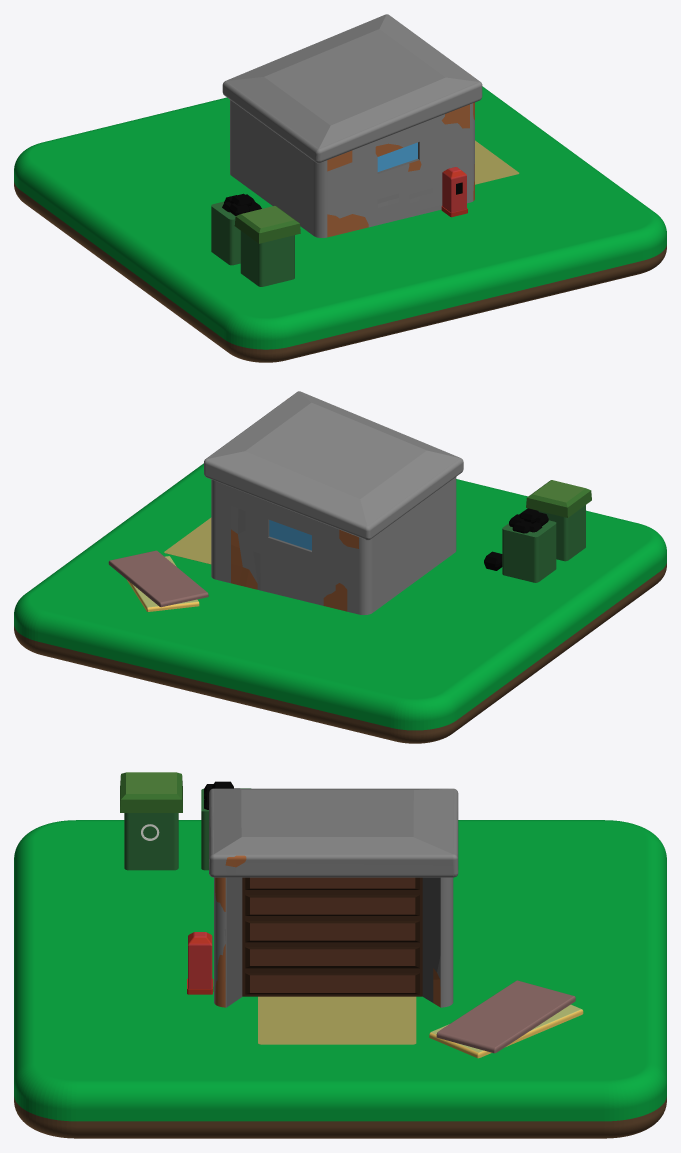
File: islandGarage.glb
3 renders of one model, top to bottom at view 1: azimuth 30°, elevation 25°; view 2: azimuth 150°, elevation 25°; view 3: azimuth 270°, elevation 25°, orthographic. The views are drawn at different scales.
Visible parts, largest first — view 1: Island.005, Plane.007, Plane.010, Plane.001; view 2: Island.005, Plane.007, Plane.010, Plane.008, Plane.001; view 3: Island.005, Plane.007, Plane.001, Plane.010, Plane.008.
Boxes of the visible parts, x1,y1,x2,y2 form: Island.005: [14, 86, 666, 362]; Plane.007: [222, 14, 482, 237]; Plane.010: [211, 193, 300, 286]; Plane.001: [475, 140, 519, 184]; Island.005: [14, 463, 666, 743]; Plane.007: [204, 391, 463, 614]; Plane.010: [484, 480, 591, 582]; Plane.008: [108, 550, 208, 611]; Plane.001: [164, 517, 211, 564]; Island.005: [14, 820, 666, 1138]; Plane.007: [187, 788, 458, 1007]; Plane.001: [258, 996, 416, 1044]; Plane.010: [120, 772, 250, 870]; Plane.008: [429, 980, 583, 1058].
Size of the model in its own units: 6 by 2.16 by 6.
